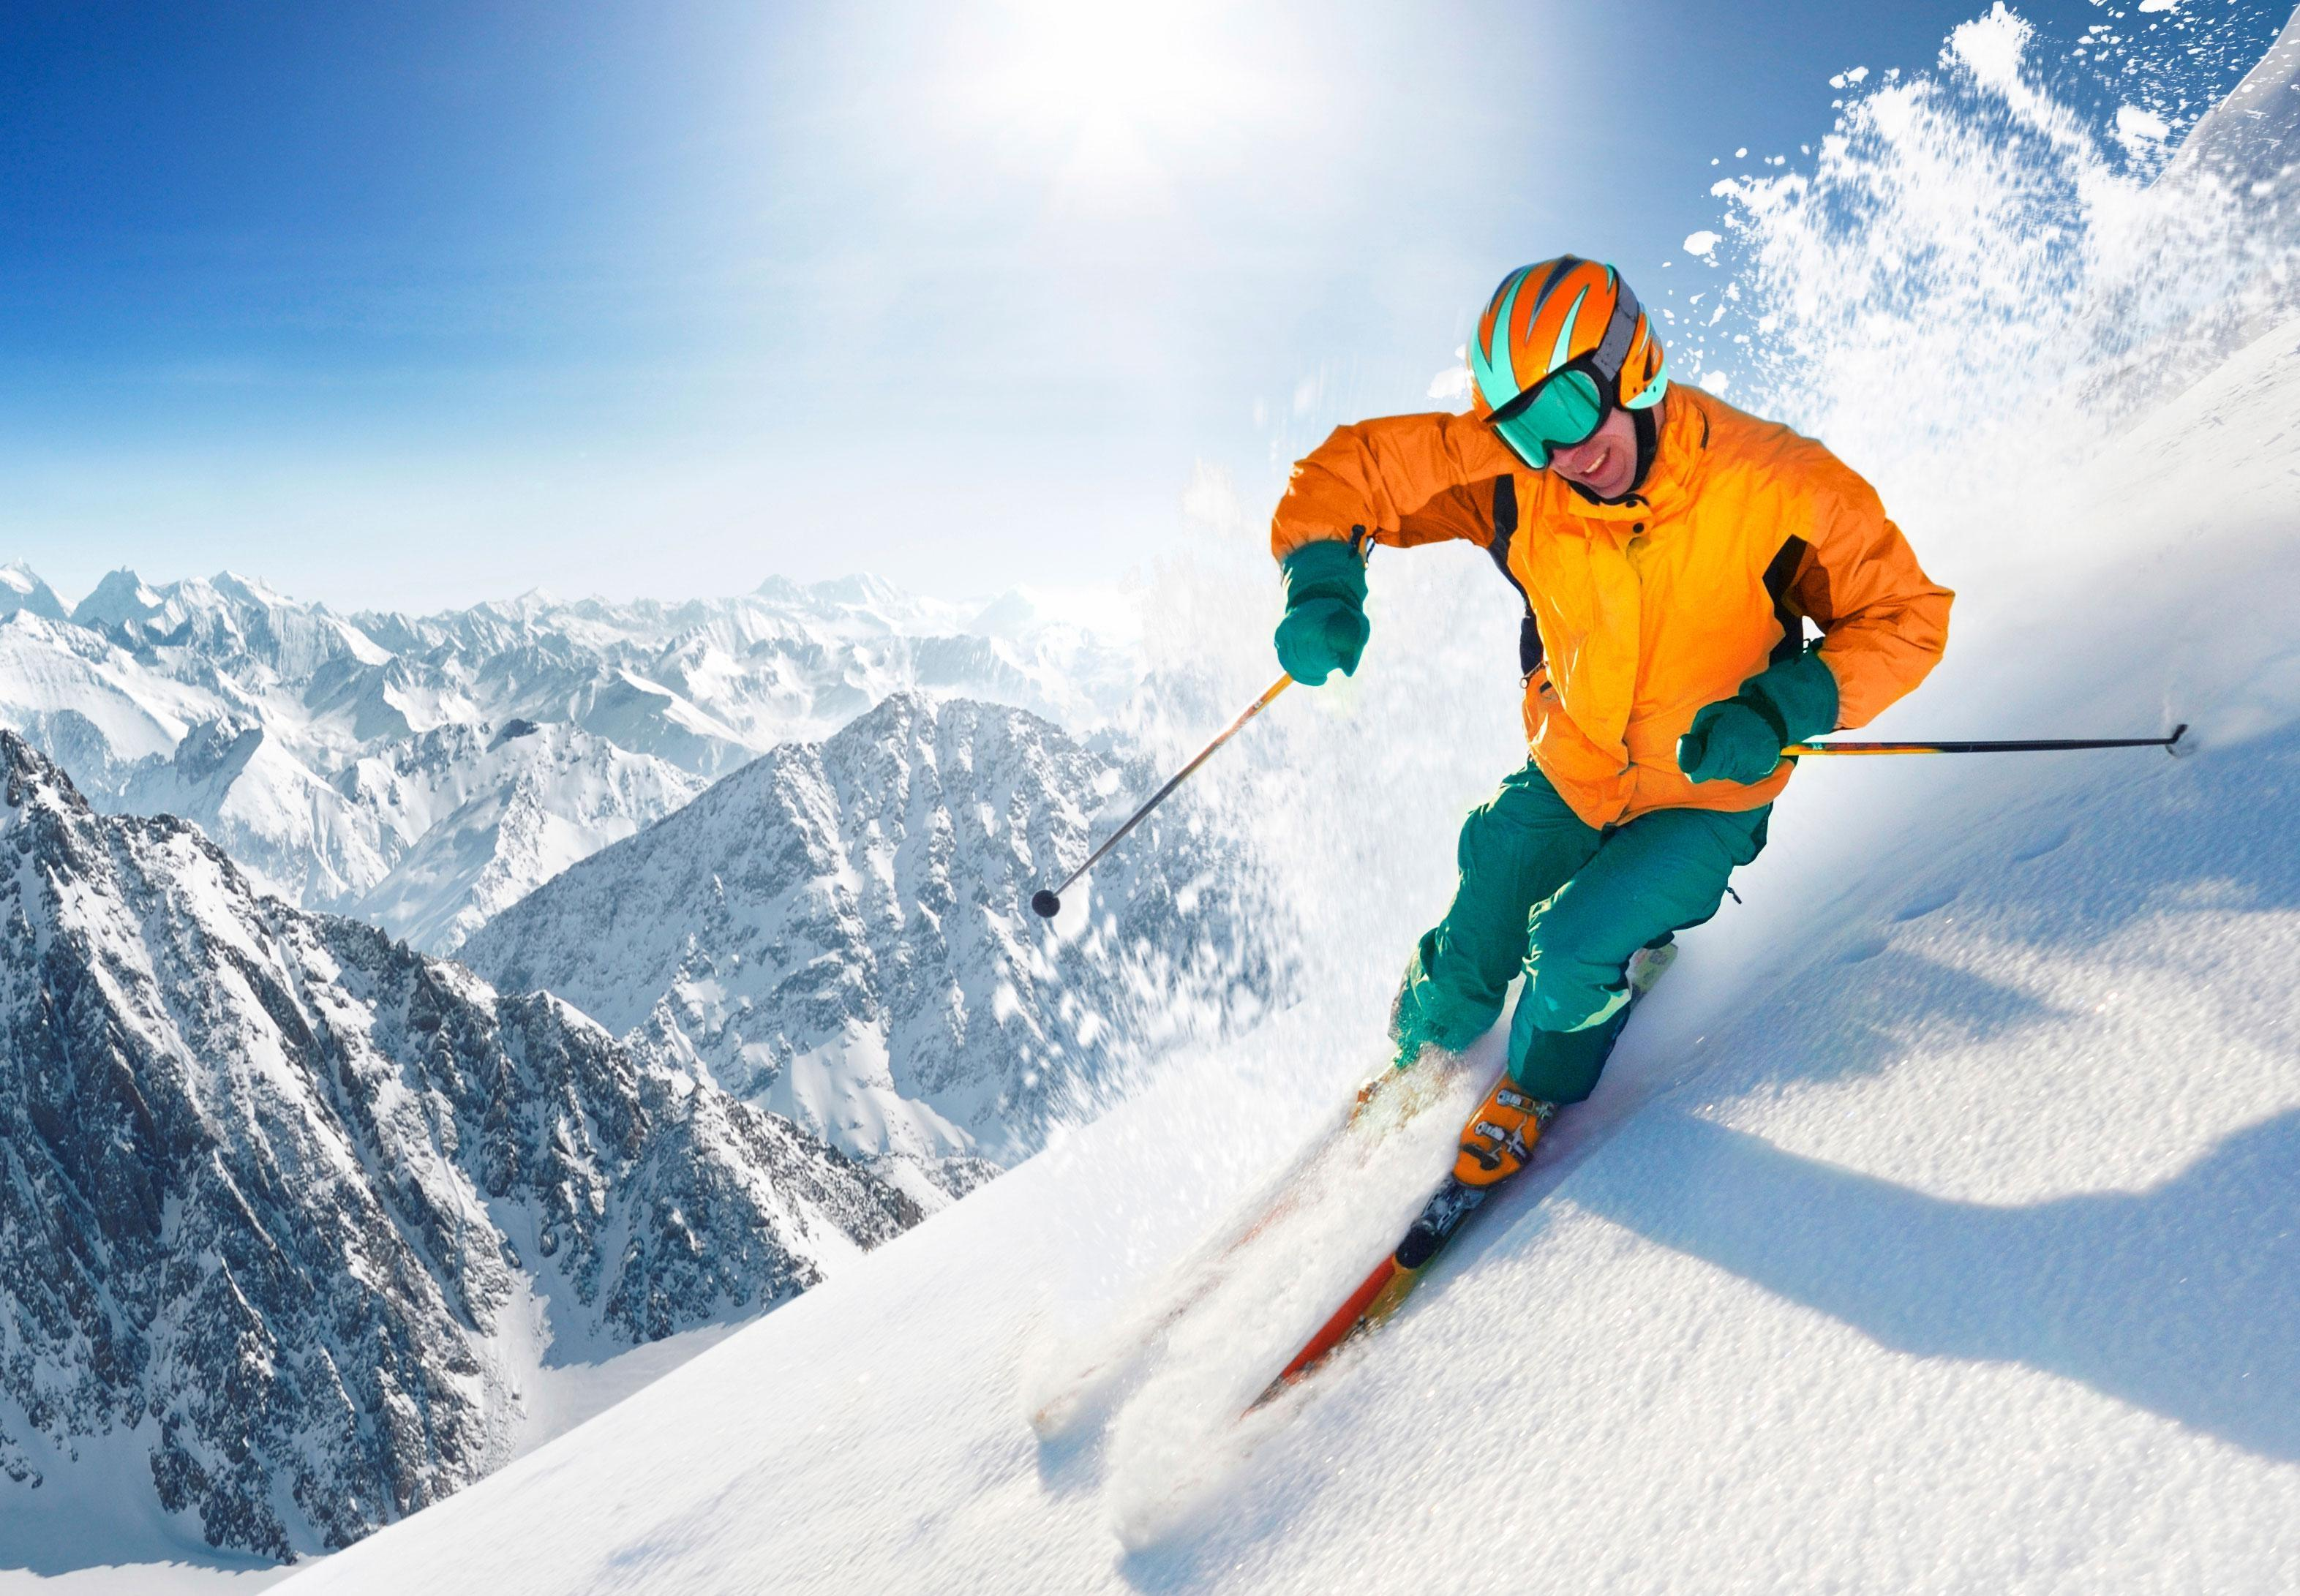Skis: (1003, 958, 1706, 1493)
